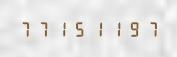five: (71, 20, 88, 37)
nine: (125, 20, 142, 37)
one: (53, 20, 70, 37), (89, 20, 106, 37), (107, 20, 124, 37)
seven: (17, 20, 34, 37), (35, 20, 52, 37), (143, 20, 160, 37)
